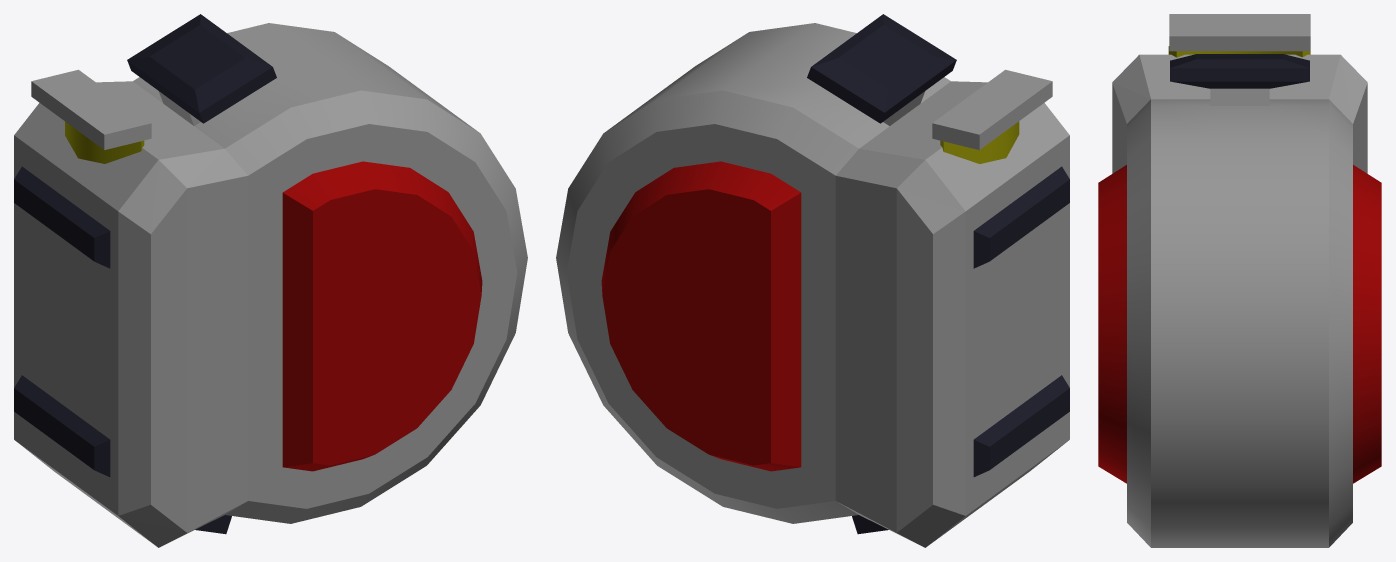
The model's file is DistanceAchievement1.FBX.
The picture shows the model from 3 angles, left to right: view 1: azimuth 30°, elevation 25°; view 2: azimuth 150°, elevation 25°; view 3: azimuth 270°, elevation 25°; orthographic projection. The views are drawn at different scales.
Parts seen in each view (by area): view 1: DistanceTier1; view 2: DistanceTier1; view 3: DistanceTier1.
Part boxes in pixels (x1,y1,x2,y2): DistanceTier1: (14, 14, 527, 547); DistanceTier1: (556, 14, 1069, 547); DistanceTier1: (1098, 14, 1381, 547).
Bounding box in the file's own units: 33.03 × 35.9 × 19.65.
